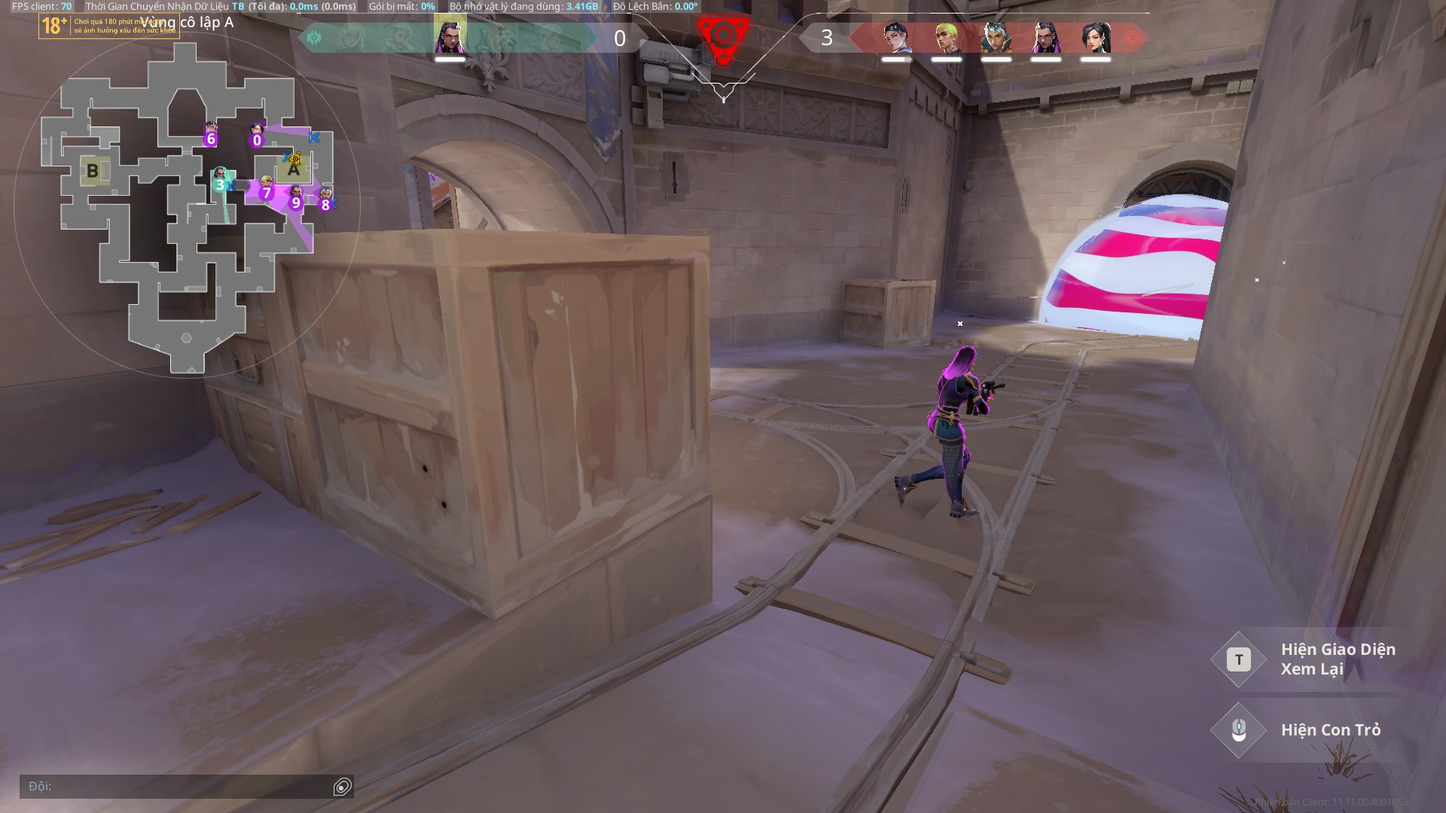body: (938, 368, 991, 419)
head: (958, 341, 977, 370)
